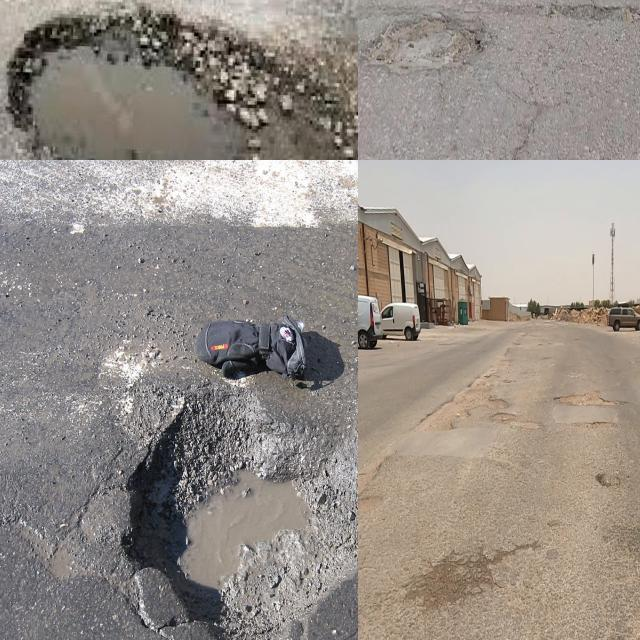Pothole: (122, 395, 358, 639), (7, 14, 308, 160), (31, 60, 236, 160), (418, 359, 538, 429), (358, 13, 488, 76), (557, 390, 619, 406), (596, 472, 620, 488), (358, 497, 380, 512), (579, 421, 613, 430)
